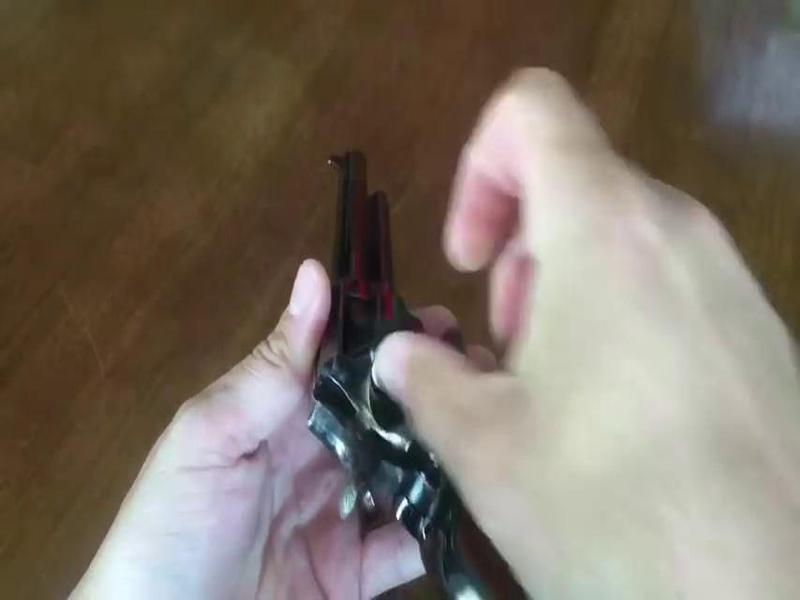Revolver: (289, 133, 464, 538)
